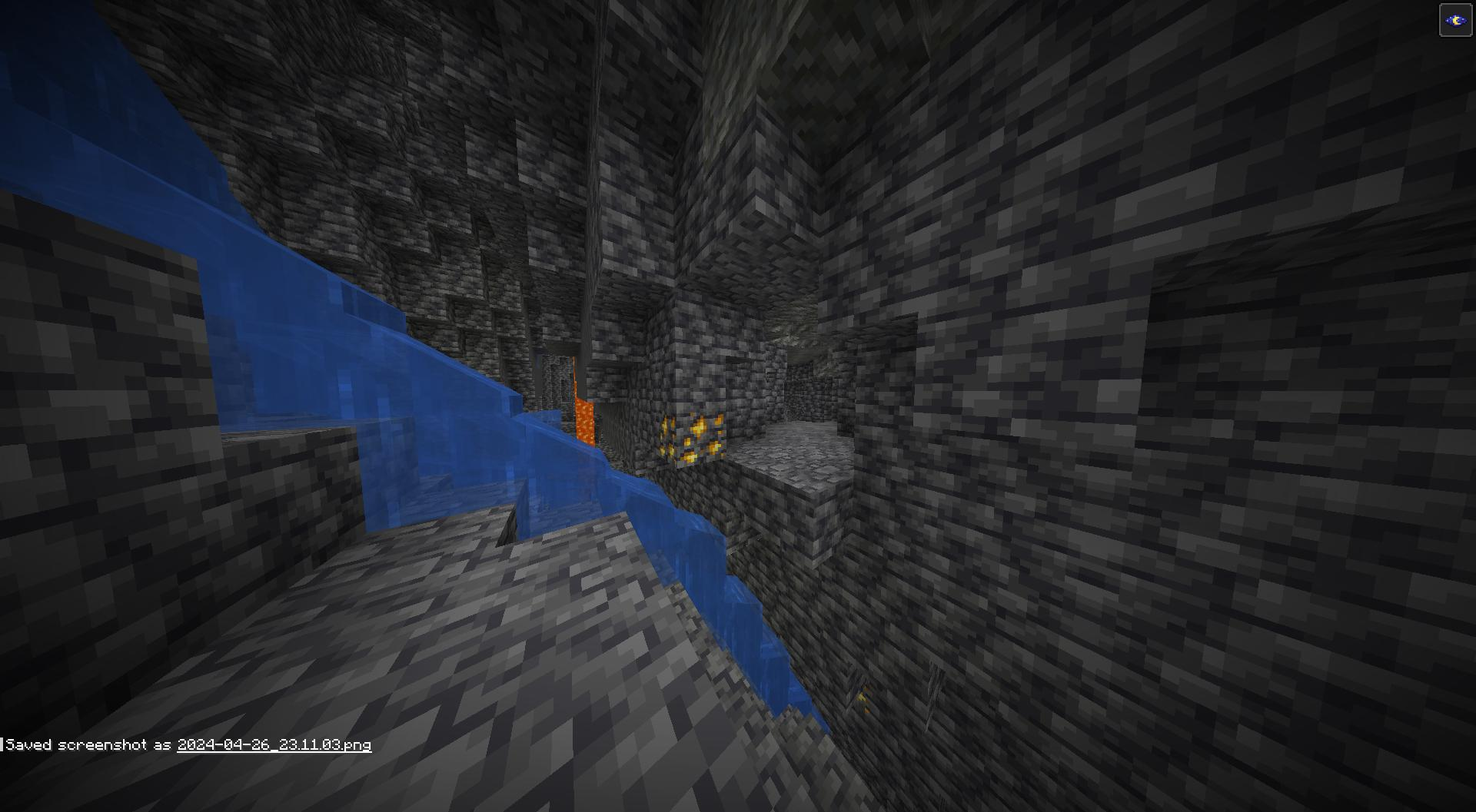gold ore: (657, 410, 728, 466)
